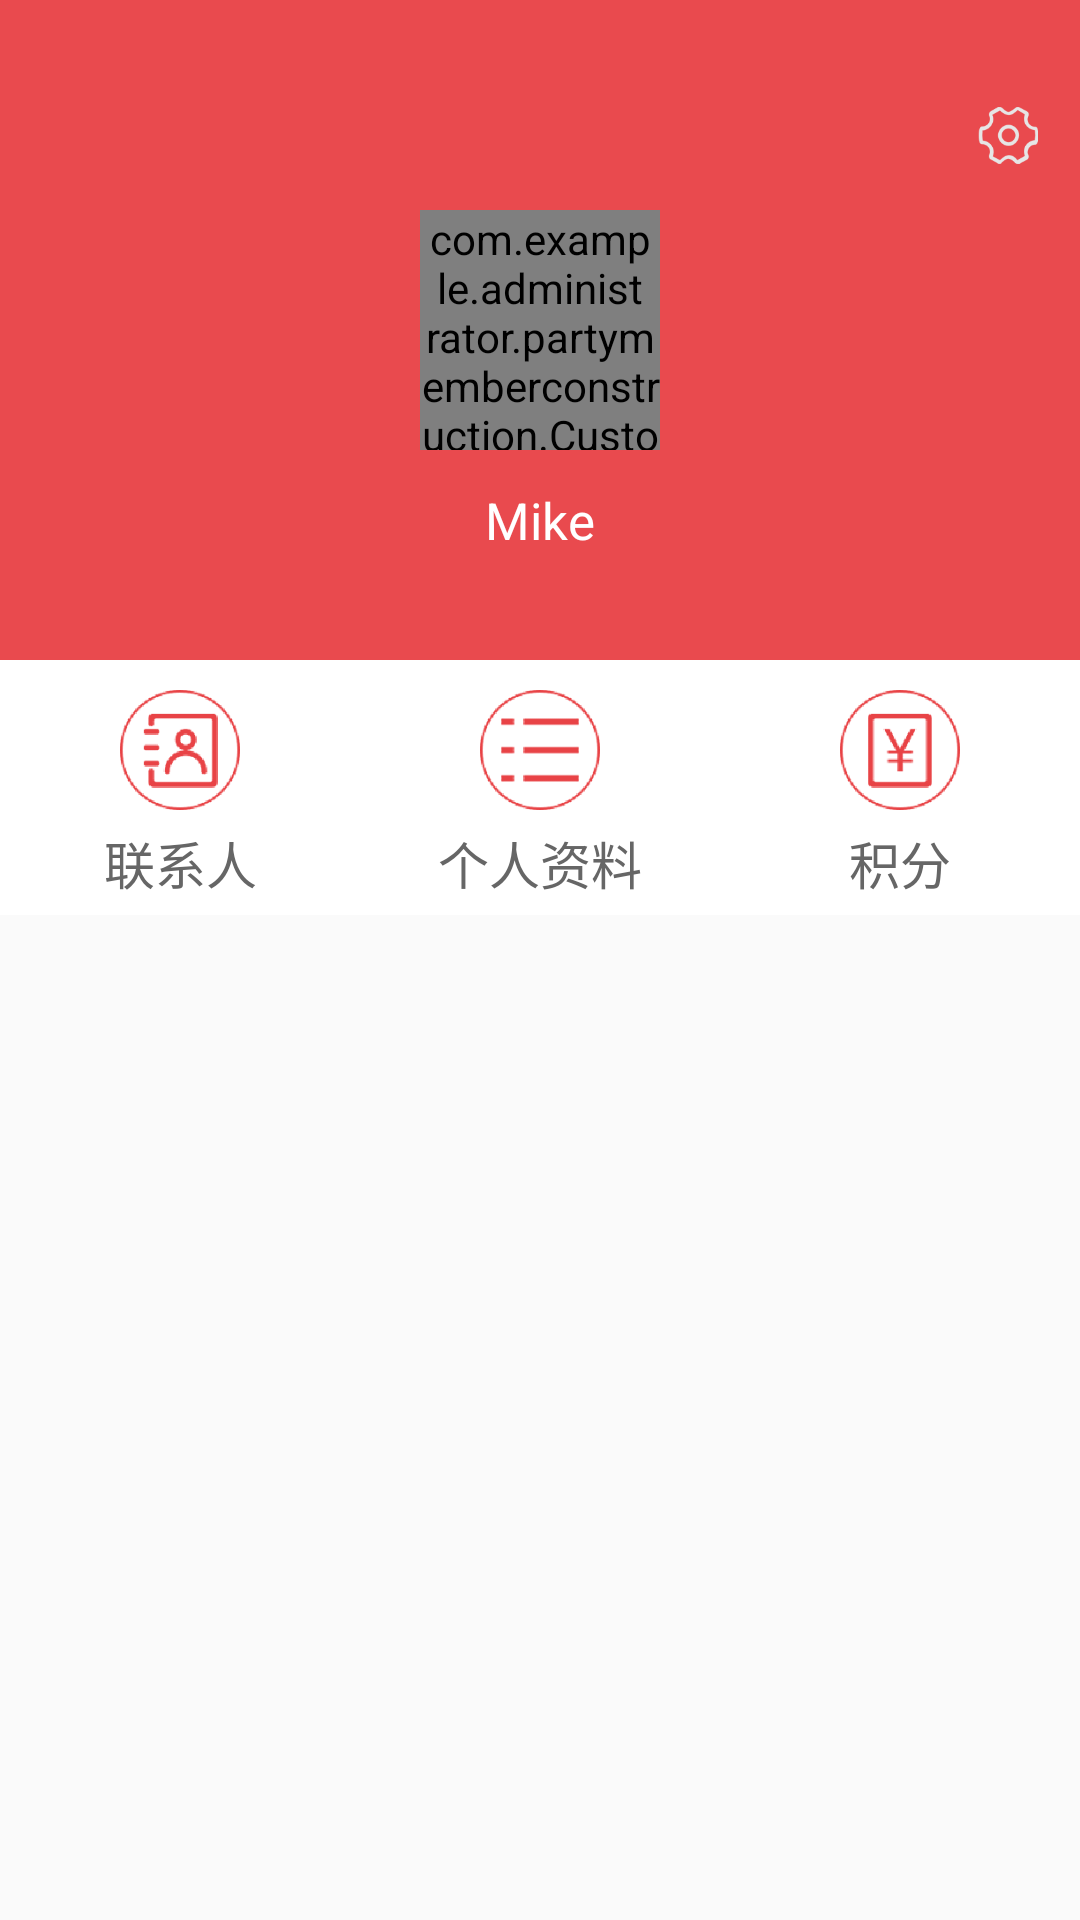

Where to tap for icons on this 1080 × 1920 app screen, as point (x, y):
setting: point (1008, 135)
